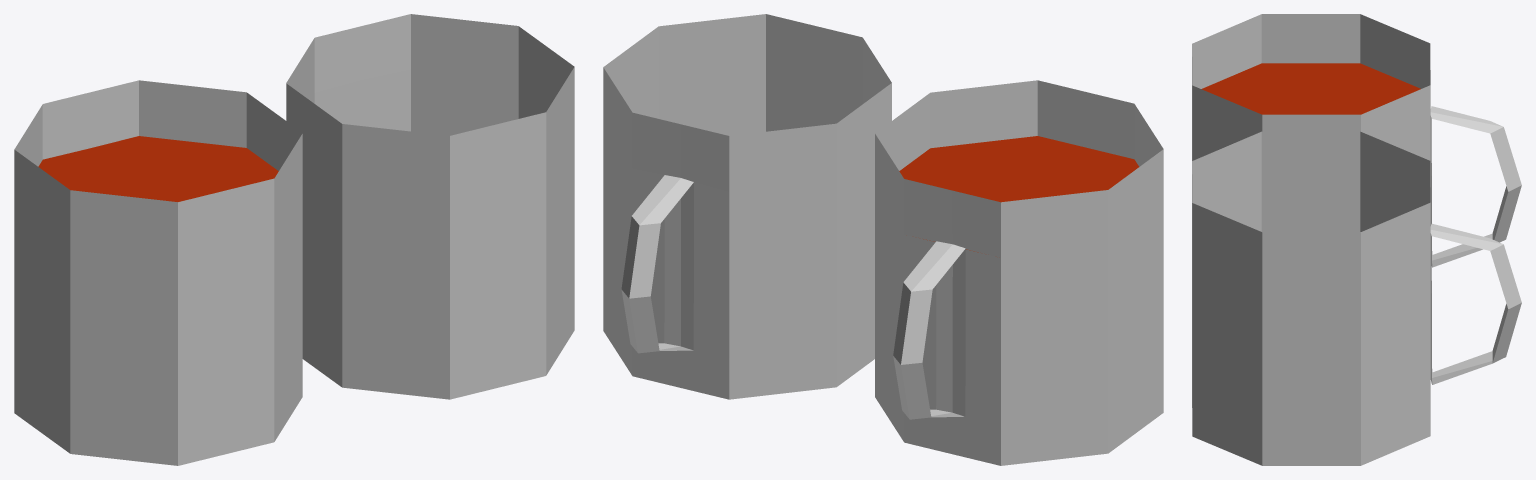
Rendered from mug.fbx.
3 views of the same model, side by side, from view 1: azimuth 30°, elevation 25°; view 2: azimuth 150°, elevation 25°; view 3: azimuth 270°, elevation 25° (orthographic). The views are drawn at different scales.
Visible parts, largest first — view 1: Cylinder, Cylinder.001, Cylinder.002; view 2: Cylinder, Cylinder.001, Cylinder.002; view 3: Cylinder, Cylinder.001, Cylinder.002.
Part boxes in pixels (x1,y1,x2,y2): Cylinder: (286,14,574,399); Cylinder.001: (14,80,302,465); Cylinder.002: (38,136,278,201); Cylinder: (603,14,891,399); Cylinder.001: (875,80,1163,465); Cylinder.002: (899,136,1138,252); Cylinder: (1192,131,1521,465); Cylinder.001: (1192,14,1521,267); Cylinder.002: (1201,63,1420,114).
Size of the model in its own units: 28.05 by 14 by 17.91.
